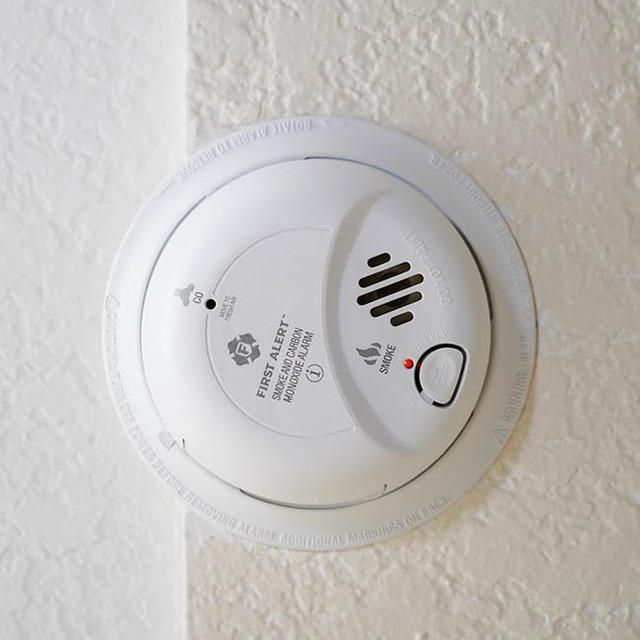Smoke-Detector: (100, 114, 536, 554)
